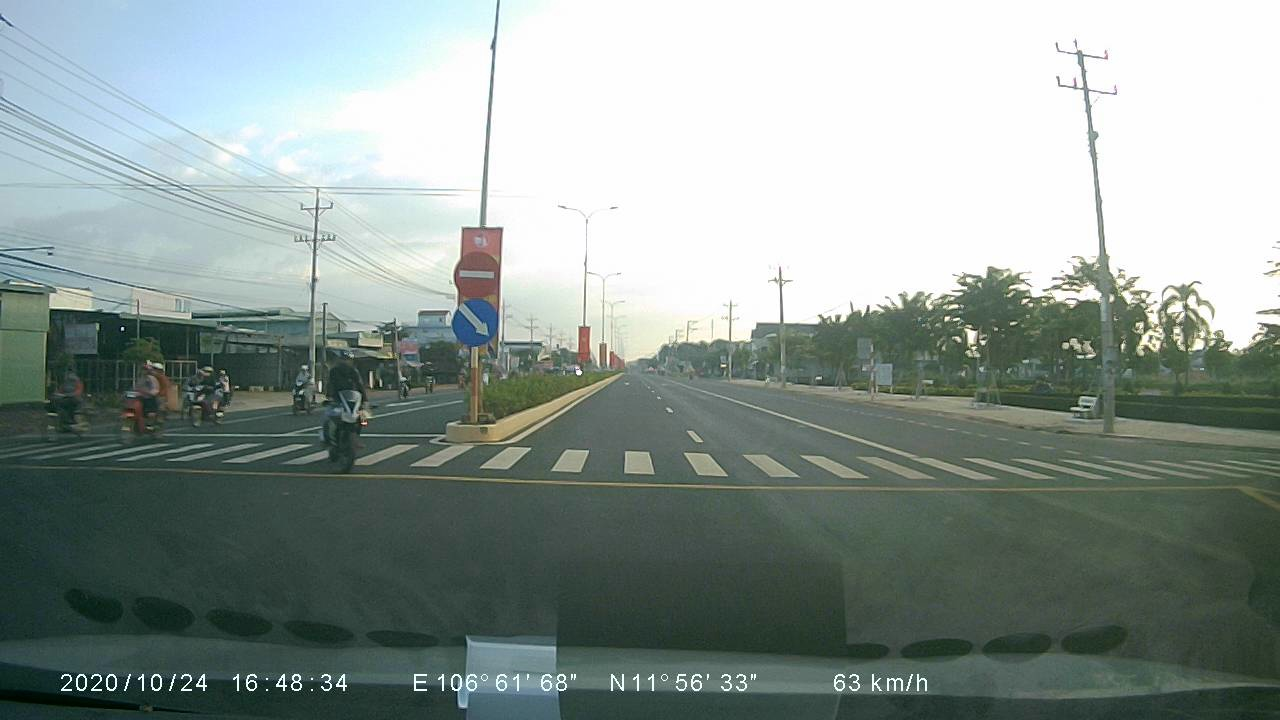Cam di nguoc chieu: (450, 249, 503, 297)
Huong di phai re phai: (448, 297, 500, 346)
